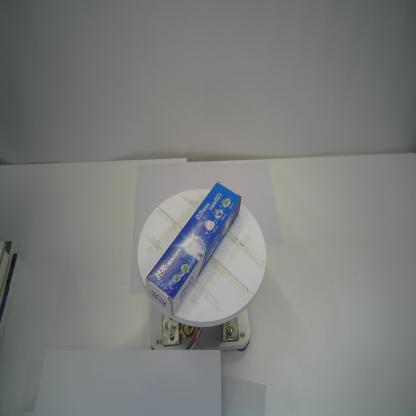Personal Hygiene: (144, 180, 242, 317)
